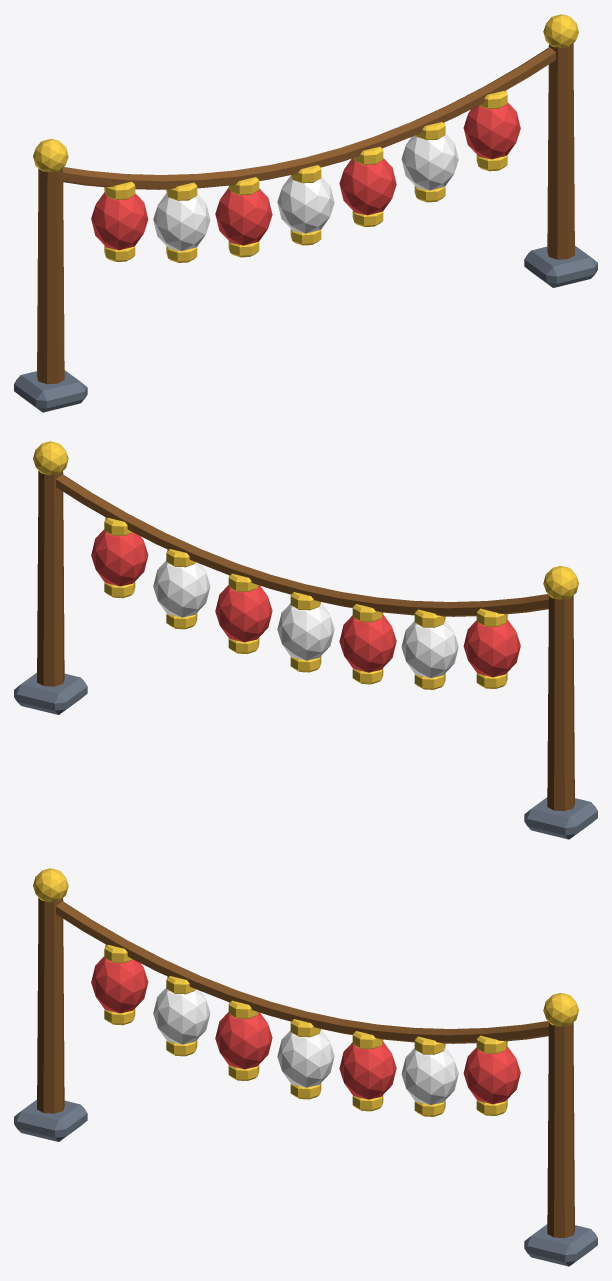
The model's file is Prop_shared_LanternString.glb.
The picture shows the model from 3 angles, top to bottom: view 1: azimuth 30°, elevation 25°; view 2: azimuth 150°, elevation 25°; view 3: azimuth 330°, elevation 25°; orthographic projection.
Visible parts, largest first — view 1: WoodDark_8A5A2B, Red_F04848, Yellow_FFD23F, White_FFFFFF, StoneDark_6B7686; view 2: WoodDark_8A5A2B, Red_F04848, Yellow_FFD23F, White_FFFFFF, StoneDark_6B7686; view 3: WoodDark_8A5A2B, Red_F04848, Yellow_FFD23F, White_FFFFFF, StoneDark_6B7686.
Boxes of the visible parts, box(x1,y1,x2,y2) form: WoodDark_8A5A2B: box(37, 44, 574, 384); Red_F04848: box(91, 102, 520, 250); Yellow_FFD23F: box(33, 14, 578, 262); White_FFFFFF: box(153, 133, 458, 251); StoneDark_6B7686: box(14, 245, 597, 412); WoodDark_8A5A2B: box(37, 471, 574, 811); Red_F04848: box(91, 529, 520, 677); Yellow_FFD23F: box(33, 441, 578, 689); White_FFFFFF: box(153, 560, 458, 678); StoneDark_6B7686: box(14, 672, 597, 839); WoodDark_8A5A2B: box(37, 898, 574, 1238); Red_F04848: box(91, 956, 520, 1104); Yellow_FFD23F: box(33, 868, 578, 1116); White_FFFFFF: box(153, 987, 458, 1105); StoneDark_6B7686: box(14, 1099, 597, 1266).
Size of the model in its own units: 16.3 by 7.2 by 1.5.
